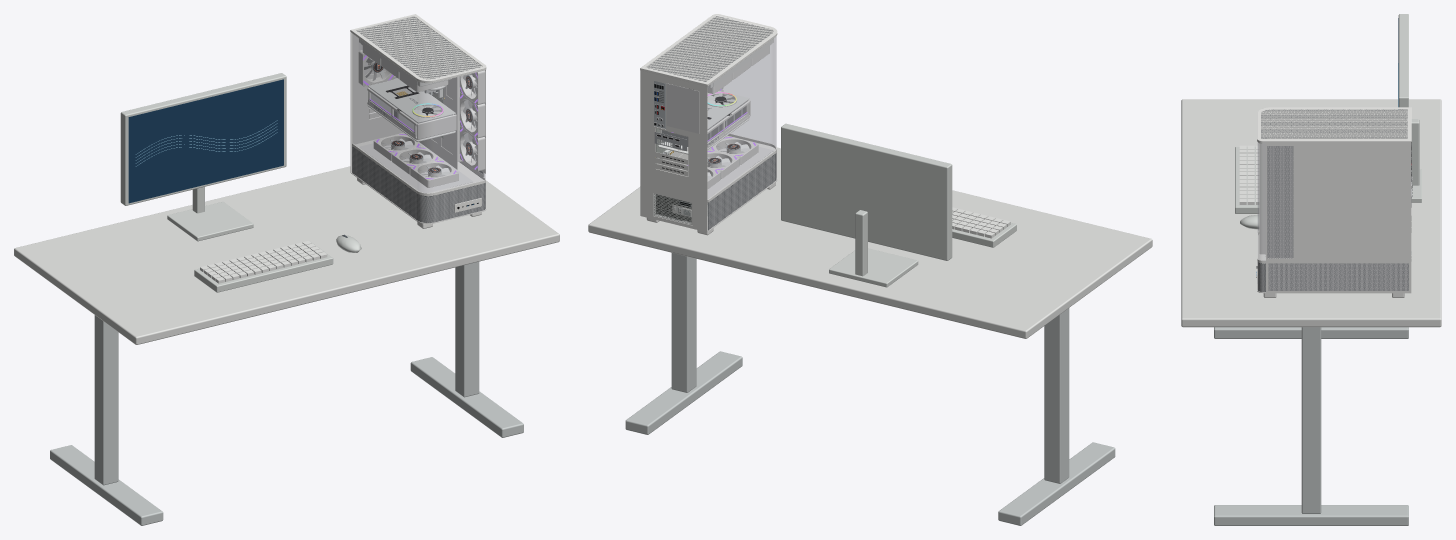
File: pcstudio-desk-white.glb
3 views of the same model, side by side, from view 1: azimuth 30°, elevation 25°; view 2: azimuth 150°, elevation 25°; view 3: azimuth 270°, elevation 25° (orthographic). The views are drawn at different scales.
Visible parts, largest first — view 1: tabletop, side_panel__glass_side, display, shell__case_inner, leg--1, top_panel__top_mesh, front__tk5_lower_front_mesh, front__tk5_lower_front_filter, leg-1, top_panel__tk5_top_filter, foot-1, foot--1 (+8 smaller); view 2: tabletop, display-shell, side_panel__glass_side, shell__case_inner, leg--1, top_panel__top_mesh, leg-1, top_panel__tk5_top_filter, foot-1, foot--1, front__tk5_lower_front_mesh, front__tk5_lower_front_filter (+7 smaller); view 3: tabletop, right_panel__case_shell, top_panel__top_mesh, top_panel__tk5_top_filter, right_lower_panel__tk5_right_lower_mesh, leg-1, foot-1, right_lower_panel__tk5_right_lower_filter, right_panel__tk5_right_mesh, right_panel__tk5_right_filter, foot--1, top_panel__case_shell (+7 smaller).
Part boxes in pixels (x1=…): tabletop: x1=14, y1=166, x2=559, y2=344; side_panel__glass_side: x1=352, y1=34, x2=485, y2=192; display: x1=128, y1=79, x2=283, y2=203; shell__case_inner: x1=350, y1=16, x2=486, y2=223; leg--1: x1=94, y1=315, x2=118, y2=485; top_panel__top_mesh: x1=357, y1=16, x2=482, y2=79; front__tk5_lower_front_mesh: x1=352, y1=146, x2=485, y2=223; front__tk5_lower_front_filter: x1=352, y1=146, x2=485, y2=222; leg-1: x1=455, y1=261, x2=479, y2=397; top_panel__tk5_top_filter: x1=357, y1=17, x2=480, y2=79; foot-1: x1=410, y1=357, x2=523, y2=437; foot--1: x1=50, y1=445, x2=163, y2=525; tabletop: x1=588, y1=147, x2=1152, y2=338; display-shell: x1=781, y1=123, x2=952, y2=260; side_panel__glass_side: x1=708, y1=36, x2=776, y2=199; shell__case_inner: x1=640, y1=70, x2=777, y2=232; leg--1: x1=1044, y1=308, x2=1069, y2=483; top_panel__top_mesh: x1=646, y1=16, x2=773, y2=81; leg-1: x1=671, y1=253, x2=696, y2=392; top_panel__tk5_top_filter: x1=647, y1=16, x2=773, y2=81; foot-1: x1=625, y1=351, x2=742, y2=434; foot--1: x1=998, y1=442, x2=1115, y2=525; front__tk5_lower_front_mesh: x1=708, y1=152, x2=776, y2=230; front__tk5_lower_front_filter: x1=708, y1=153, x2=775, y2=230; tabletop: x1=1181, y1=99, x2=1441, y2=327; right_panel__case_shell: x1=1266, y1=143, x2=1411, y2=261; top_panel__top_mesh: x1=1261, y1=109, x2=1407, y2=139; top_panel__tk5_top_filter: x1=1261, y1=109, x2=1407, y2=138; right_lower_panel__tk5_right_lower_mesh: x1=1268, y1=263, x2=1408, y2=290; leg-1: x1=1301, y1=327, x2=1321, y2=513; foot-1: x1=1214, y1=505, x2=1408, y2=525; right_lower_panel__tk5_right_lower_filter: x1=1268, y1=263, x2=1408, y2=290; right_panel__tk5_right_mesh: x1=1267, y1=146, x2=1293, y2=258; right_panel__tk5_right_filter: x1=1267, y1=146, x2=1293, y2=258; foot--1: x1=1214, y1=327, x2=1408, y2=338; top_panel__case_shell: x1=1257, y1=107, x2=1411, y2=143.
Size of the model in its own units: 1.6 by 1.28 by 0.8.
Materials: 109 (14 with a texture image).
